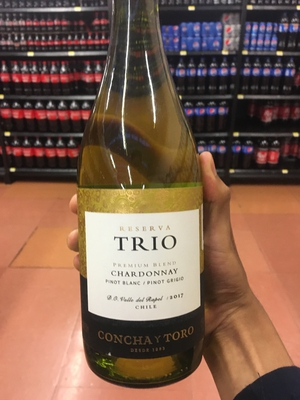trio chardonnay: (78, 11, 206, 388)
